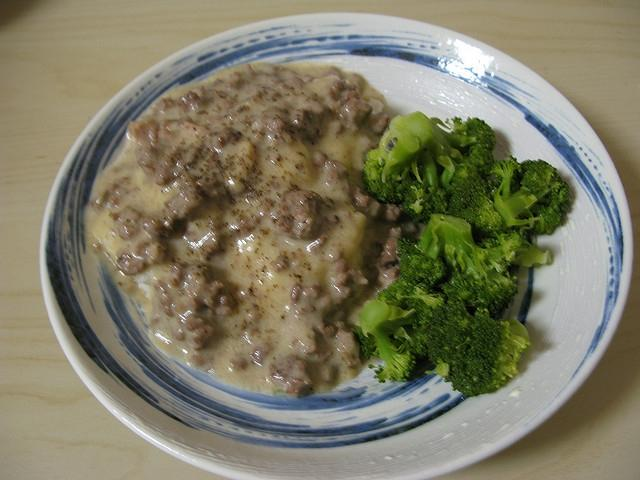broccoli: (361, 111, 495, 225), (418, 214, 518, 314), (426, 310, 530, 396), (489, 154, 572, 234), (353, 300, 428, 384), (446, 166, 504, 233)
